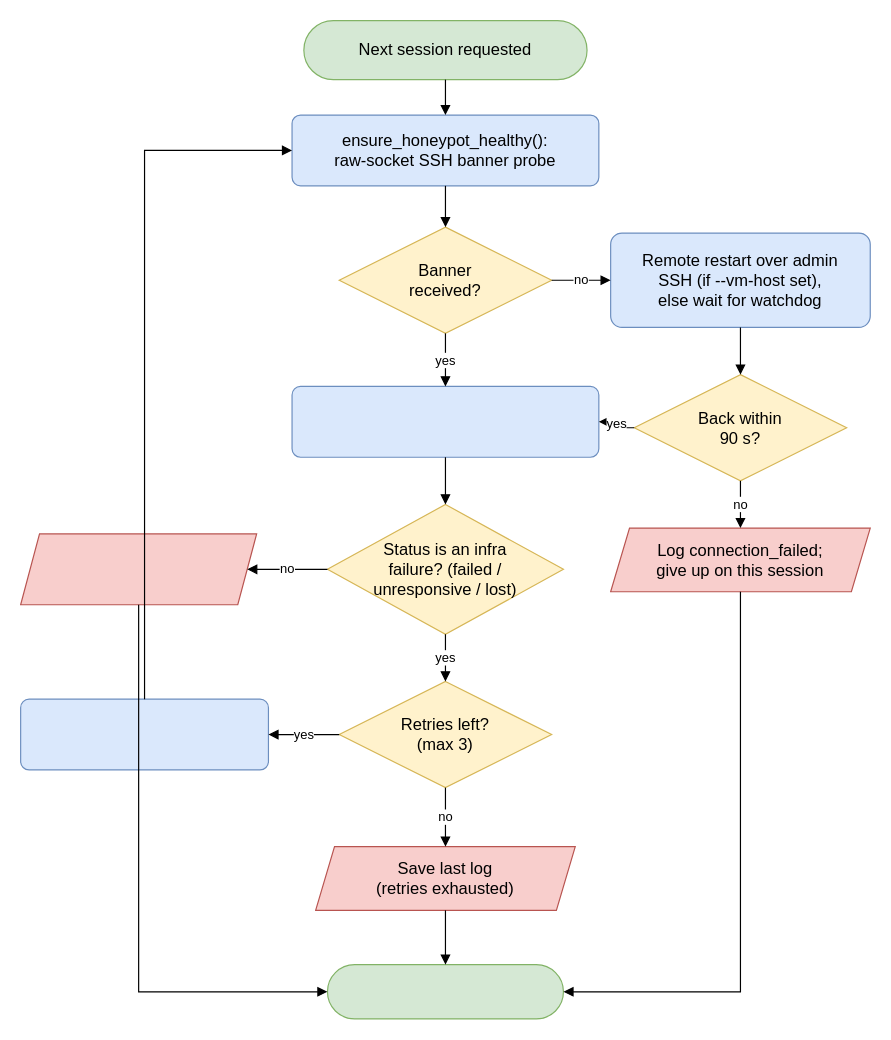
Image size: 891x1040. Some labels were removed from this diagram. The centre of each missing label's shape, as x and y in pixels:
"Keep log as real data (completed, refused, ...)" belongs at (138,569).
"run_session(): drive the attacker loop" belongs at (445,421).
"Save failed attempt, wait 3 s, retry" belongs at (143,734).
"Session finished" belongs at (444,991).
